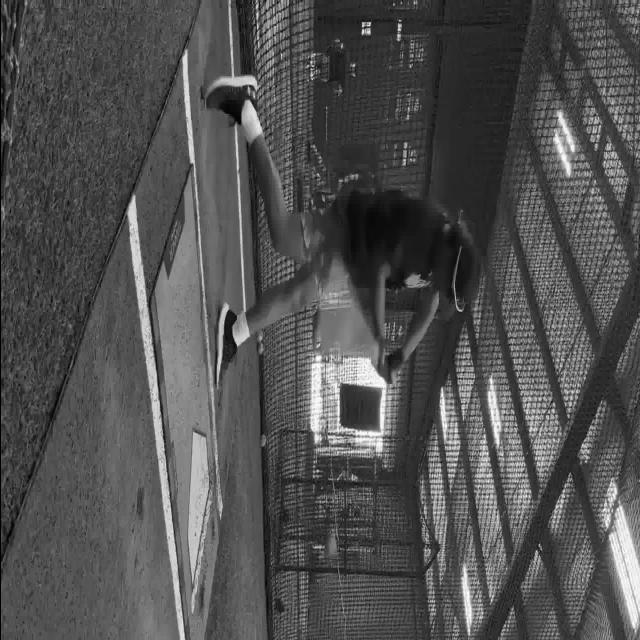base: (188, 431, 208, 586)
baseball: (324, 534, 336, 556), (258, 433, 266, 447), (256, 341, 262, 354), (256, 332, 262, 342)
baseball_glove: (374, 345, 402, 385)
bat: (313, 293, 383, 357)
shoe: (200, 74, 258, 126), (214, 302, 237, 388)
